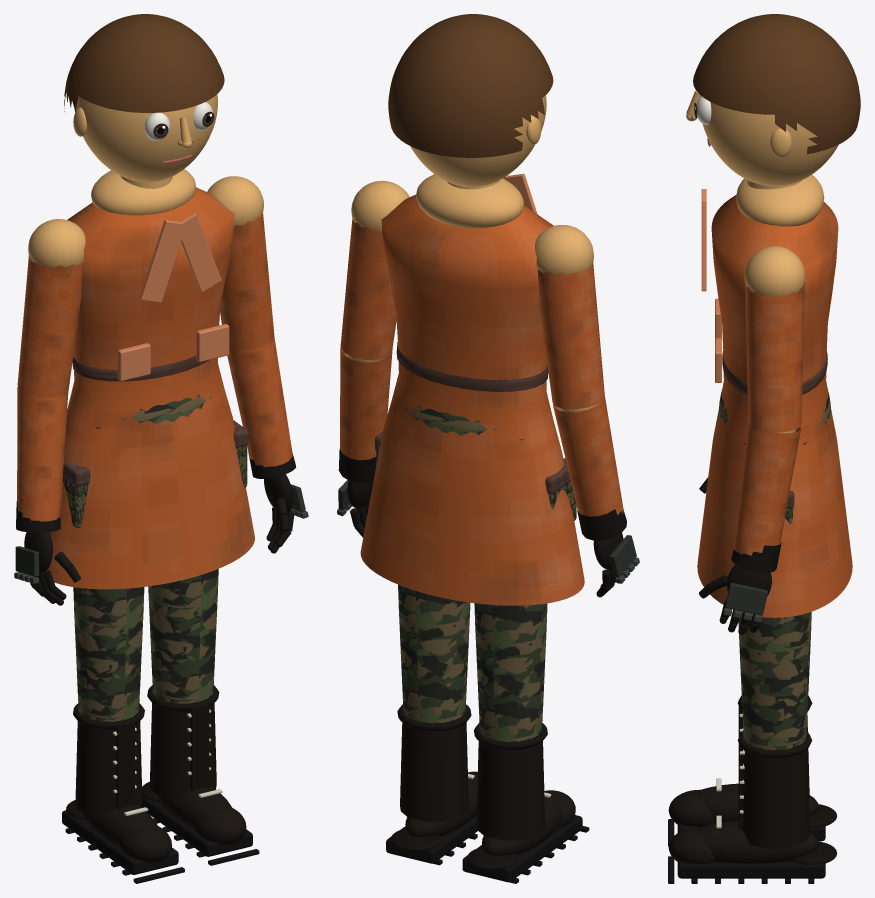
Rendered from 09-blouse-de-laboratoire.glb.
3 renders of one model, left to right at view 1: azimuth 30°, elevation 25°; view 2: azimuth 150°, elevation 25°; view 3: azimuth 270°, elevation 25°, orthographic. The views are drawn at different scales.
Bounding box in the file's own units: 0.6344 × 1.77 × 0.3715.
23 materials, 4 textured.
